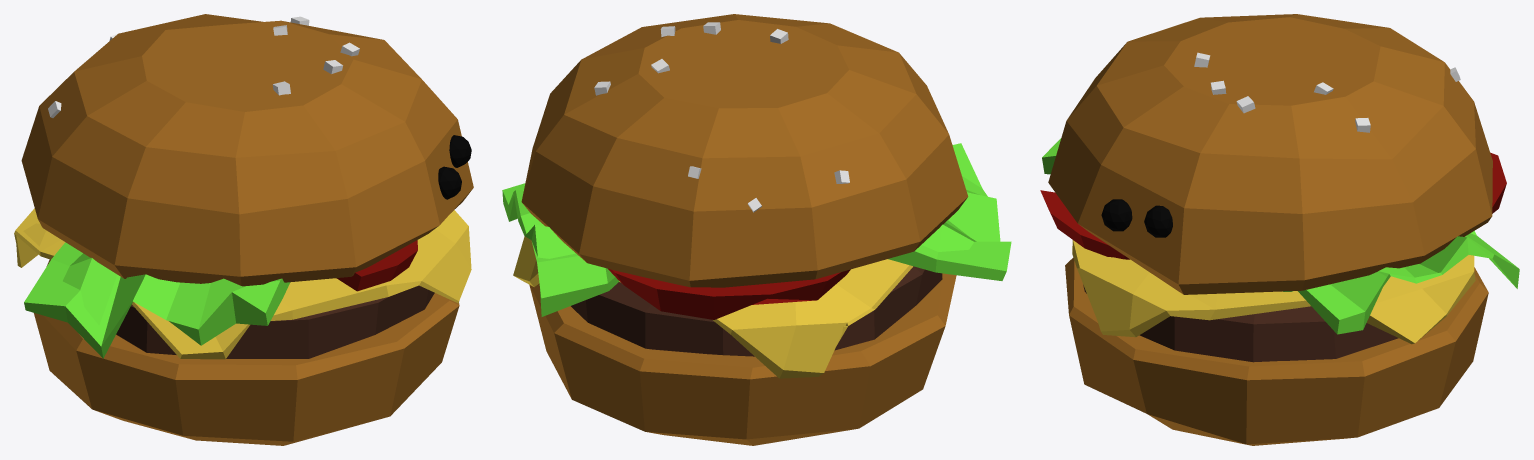
File: MMBurger.fbx
3 renders of one model, left to right at view 1: azimuth 30°, elevation 25°; view 2: azimuth 150°, elevation 25°; view 3: azimuth 270°, elevation 25°, orthographic.
Parts seen in each view (by area): view 1: BunTop, BunBottom, Salad, Cheese, Steak, Tomato2, Sprinkles, Eye1, Eye2; view 2: BunTop, BunBottom, Salad, Cheese, Steak, Tomato1, Sprinkles; view 3: BunTop, BunBottom, Cheese, Steak, Salad, Tomato2, Sprinkles, Eye1, Eye2, Tomato1.
Boxes of the visible parts, <box> form: BunTop: <box>21,14,473,286</box>; BunBottom: <box>34,259,459,445</box>; Salad: <box>24,242,290,358</box>; Cheese: <box>14,208,471,359</box>; Steak: <box>116,285,434,358</box>; Tomato2: <box>336,240,417,291</box>; Sprinkles: <box>48,16,359,117</box>; Eye1: <box>438,166,461,199</box>; Eye2: <box>449,135,471,167</box>; BunTop: <box>521,14,968,287</box>; BunBottom: <box>529,273,956,445</box>; Salad: <box>502,143,1011,316</box>; Cheese: <box>513,236,912,378</box>; Steak: <box>571,266,942,356</box>; Tomato1: <box>608,268,850,319</box>; Sprinkles: <box>594,22,849,212</box>; BunTop: <box>1048,14,1492,294</box>; BunBottom: <box>1065,257,1488,445</box>; Cheese: <box>1072,240,1475,344</box>; Steak: <box>1083,285,1398,362</box>; Salad: <box>1042,138,1519,334</box>; Tomato2: <box>1040,190,1129,259</box>; Sprinkles: <box>1194,52,1460,132</box>; Eye1: <box>1101,199,1132,231</box>; Eye2: <box>1144,205,1172,237</box>; Tomato1: <box>1490,152,1506,213</box>.
Bounding box in the file's own units: 265 × 181 × 241.
